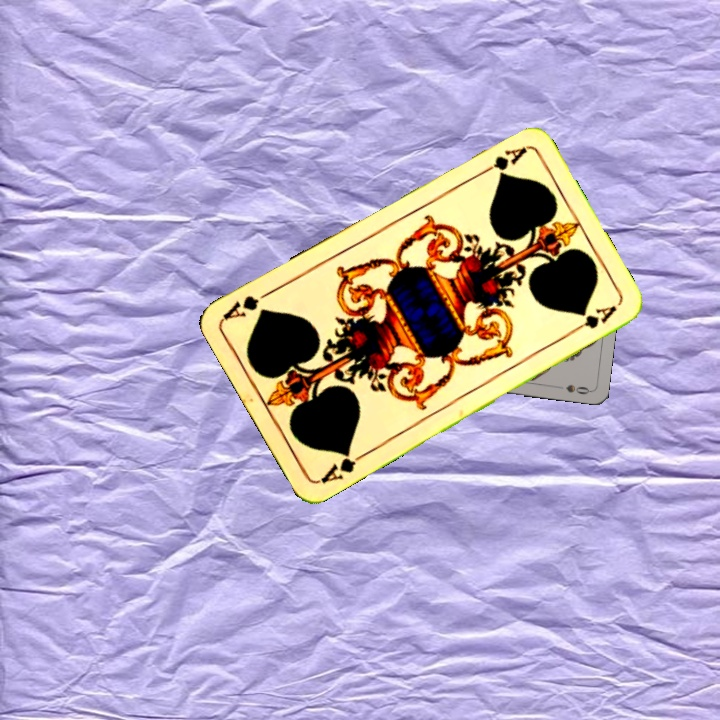GA: (316, 446, 370, 486), (474, 143, 529, 179)
